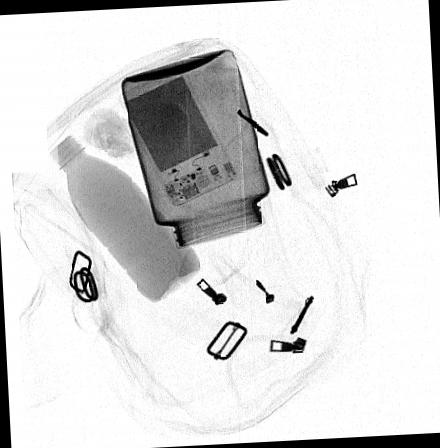Powerbank: (118, 71, 237, 206)
